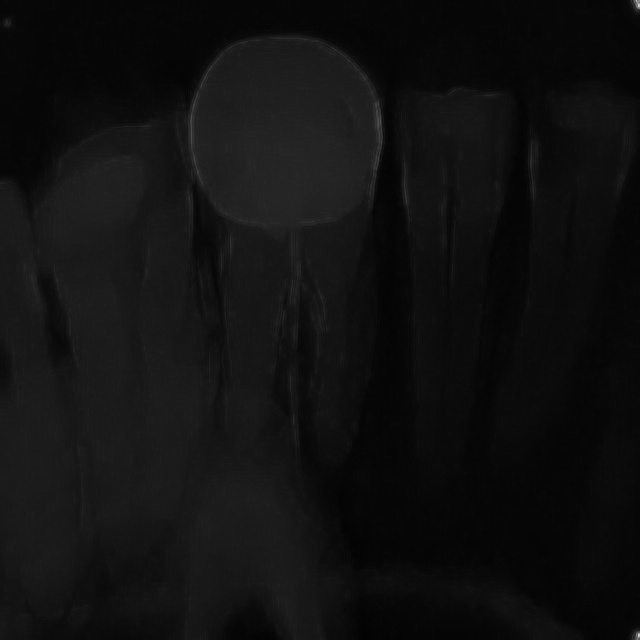Class 2- incomplete endodontic treatment: (190, 27, 396, 545)
